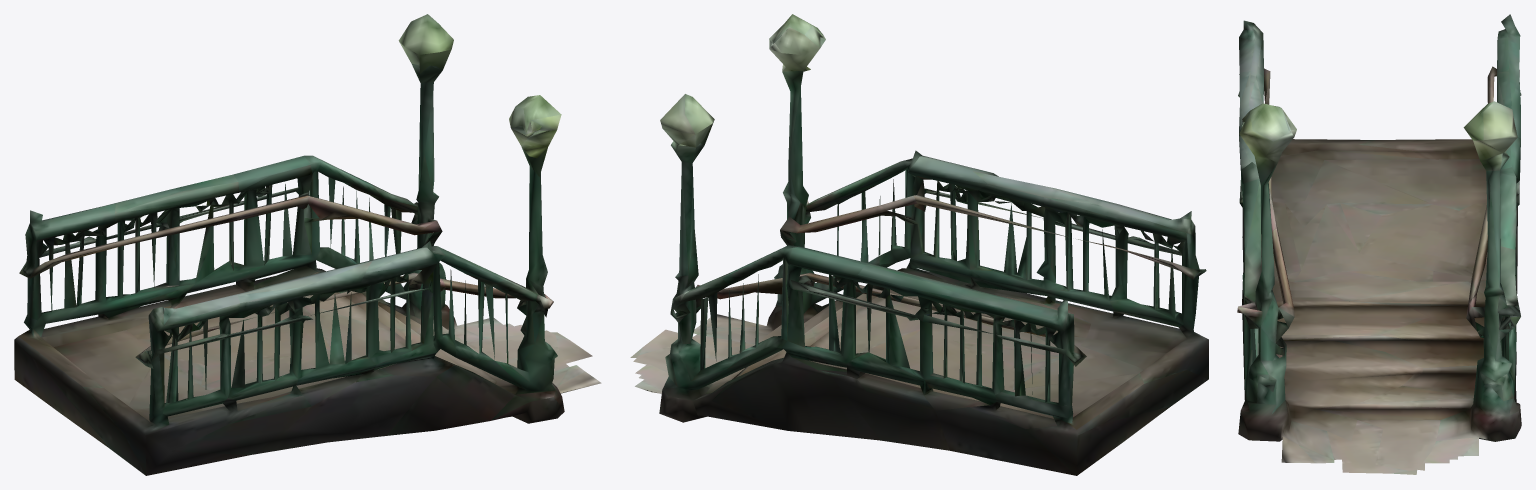
The model's file is subway-entrance.glb.
3 renders of one model, left to right at view 1: azimuth 30°, elevation 25°; view 2: azimuth 150°, elevation 25°; view 3: azimuth 270°, elevation 25°, orthographic. The views are drawn at different scales.
Parts seen in each view (by area): view 1: tripo_node_4f7f0fa1-d0b7-4788-a150-5c153d442c3b; view 2: tripo_node_4f7f0fa1-d0b7-4788-a150-5c153d442c3b; view 3: tripo_node_4f7f0fa1-d0b7-4788-a150-5c153d442c3b.
Boxes of the visible parts, x1,y1,x2,y2 form: tripo_node_4f7f0fa1-d0b7-4788-a150-5c153d442c3b: (14,14,601,475); tripo_node_4f7f0fa1-d0b7-4788-a150-5c153d442c3b: (630,14,1208,475); tripo_node_4f7f0fa1-d0b7-4788-a150-5c153d442c3b: (1237,14,1521,474).
Bounding box in the file's own units: 0.9998 × 0.6104 × 0.4774.
1 material, 1 textured.
